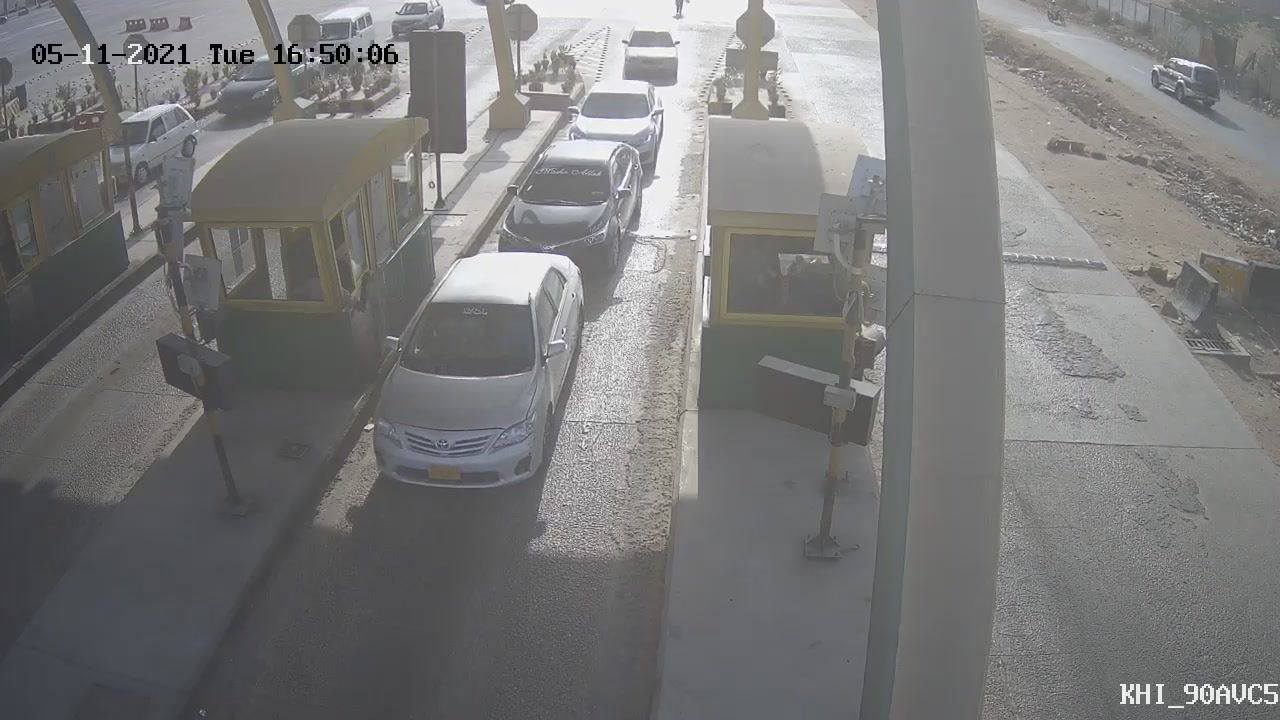F1: (346, 238, 613, 513), (479, 122, 663, 291)
